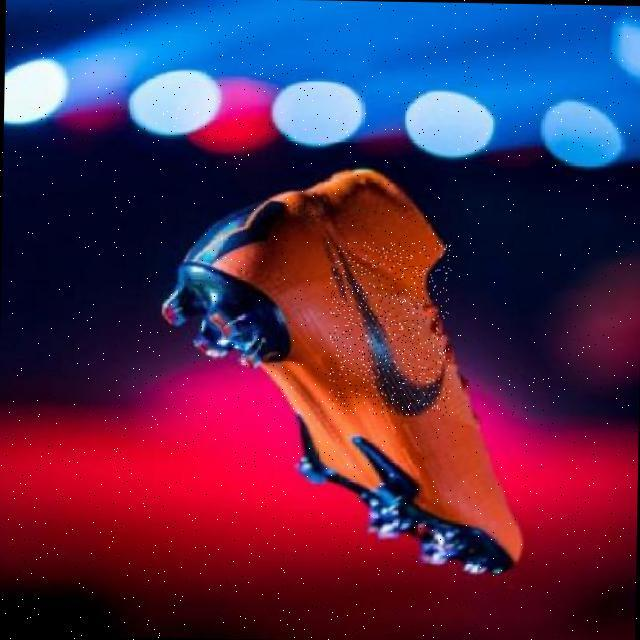Nike: (328, 241, 453, 415)
